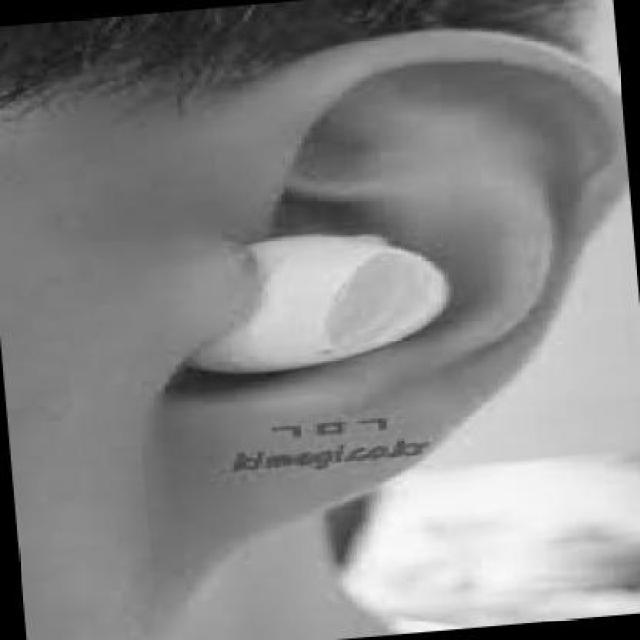earphone: (207, 211, 399, 415)
